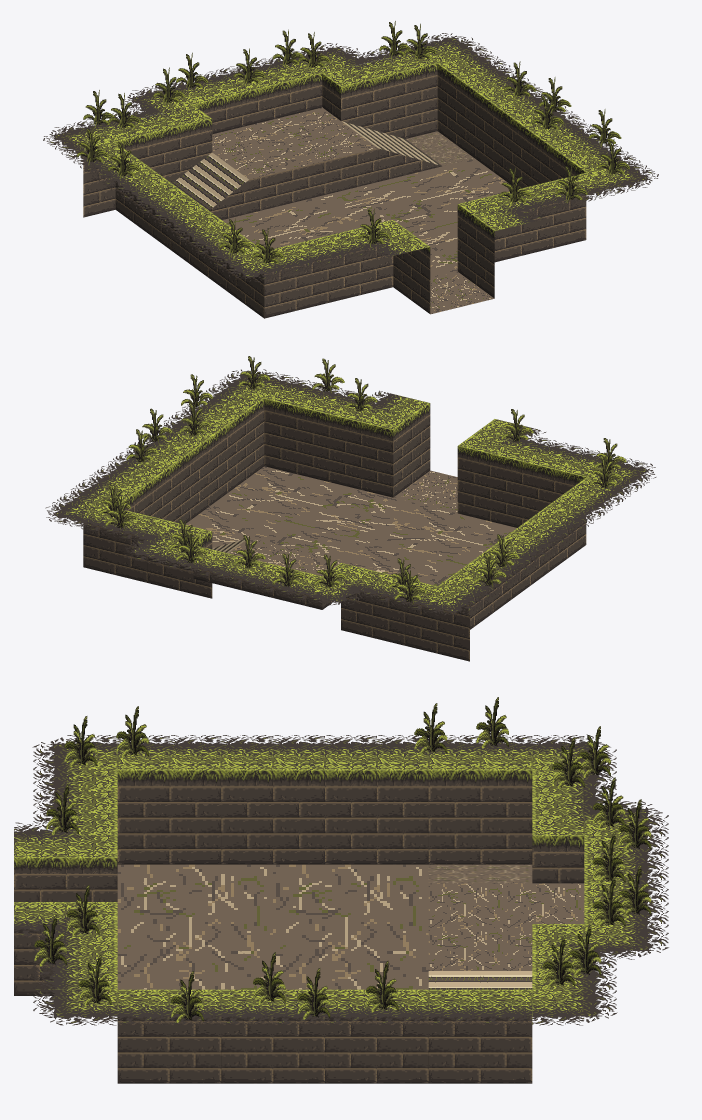
Rendered from Raum1.fbx.
3 views of the same model, one above another, from view 1: azimuth 30°, elevation 25°; view 2: azimuth 150°, elevation 25°; view 3: azimuth 270°, elevation 25° (orthographic). The views are drawn at different scales.
Parts seen in each view (by area): view 1: Raum1; view 2: Raum1; view 3: Raum1.
Part boxes in pixels (box(x1,y1,x2,y2)): Raum1: box(43, 21, 658, 318); Raum1: box(45, 356, 656, 661); Raum1: box(14, 697, 668, 1083).
Size of the model in its own units: 28 by 6 by 26.
